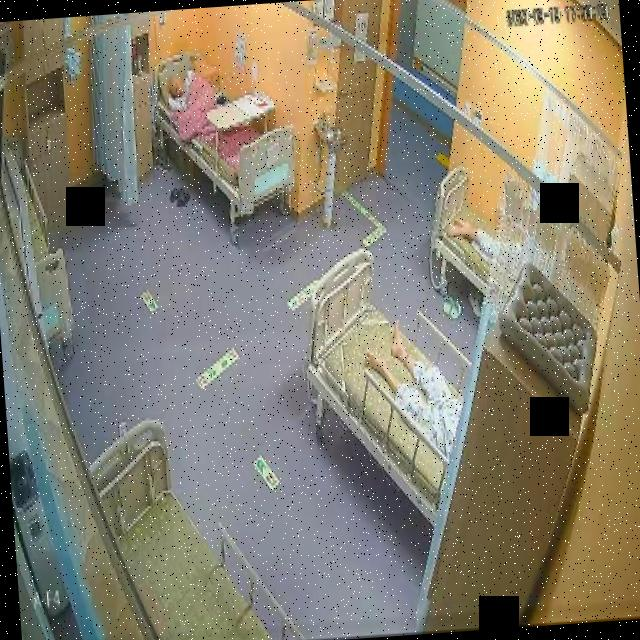bed: (84, 411, 305, 640), (297, 244, 473, 528), (145, 44, 301, 222), (428, 163, 500, 298)
lie: (362, 311, 467, 460)
patient: (362, 310, 468, 458), (164, 66, 201, 112)
